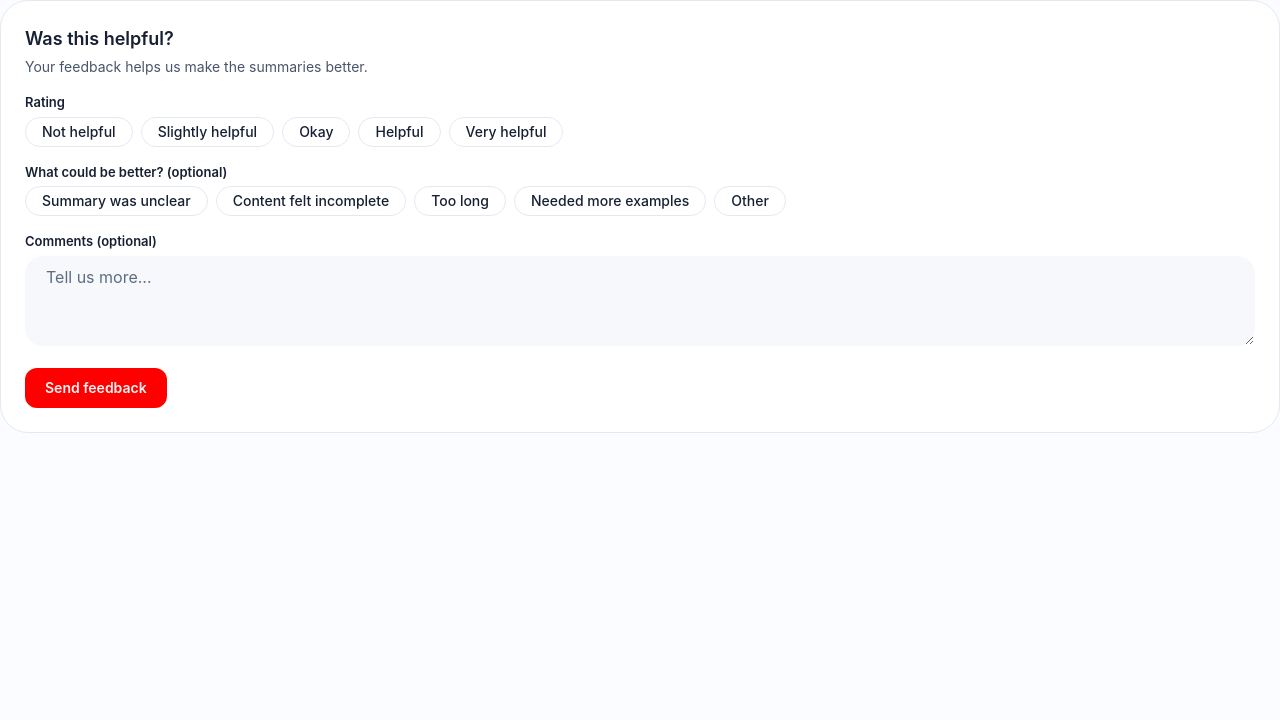
Test: FeedbackForm › submits with a selected rating and optional analysisId
Click the radio button labelled "Very helpful". click: (506, 132)
box: [449, 116, 564, 146]
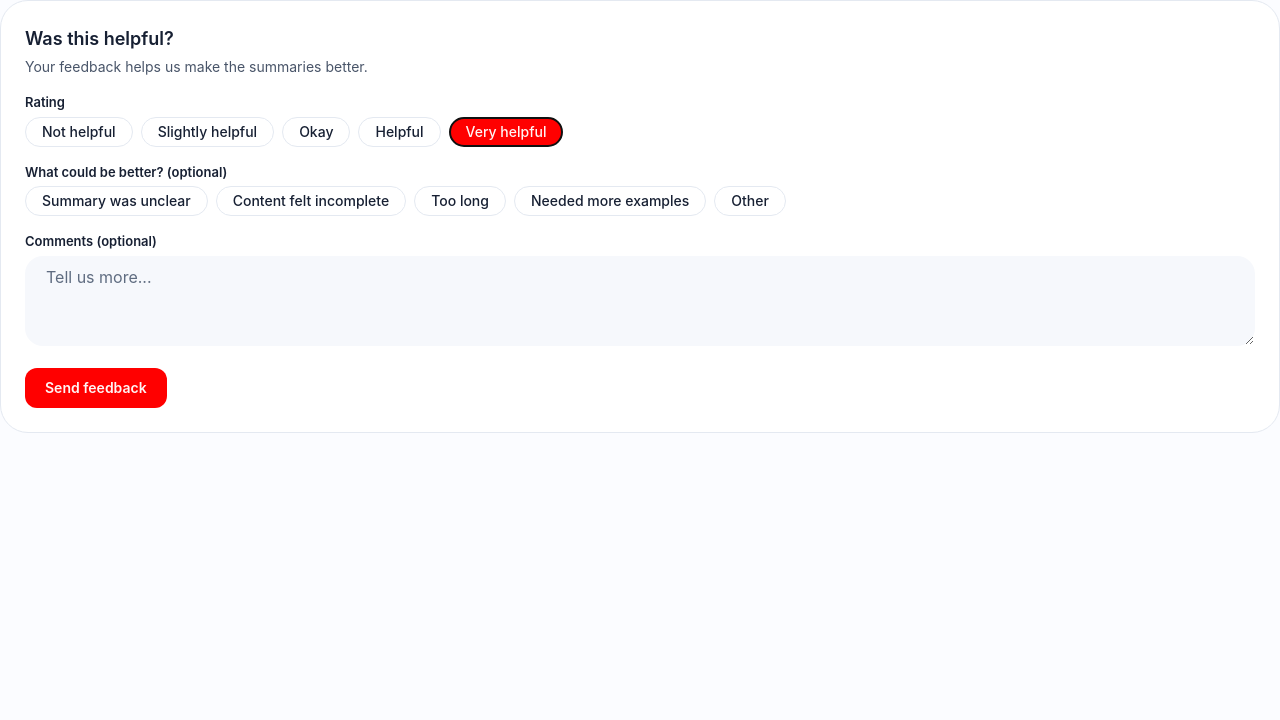
Click the button "Send feedback". click: (96, 388)
box: [25, 368, 167, 408]
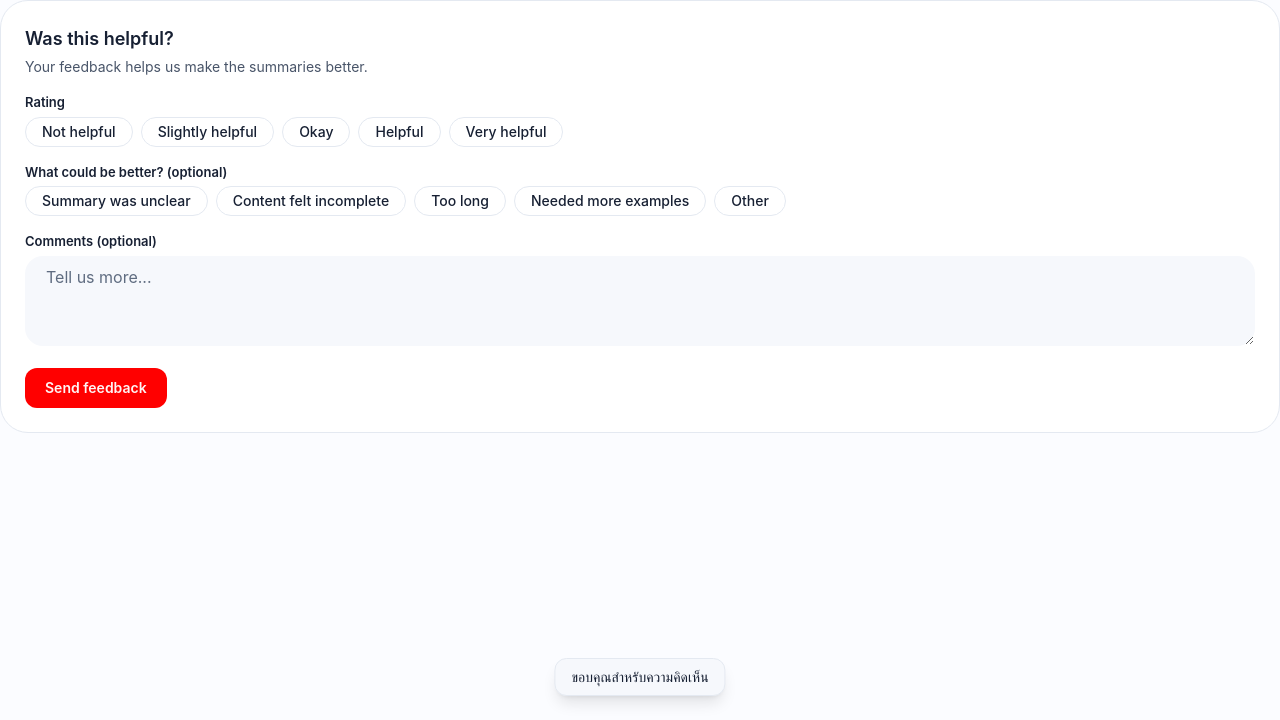
Now the text "ขอบคุณสำหรับความคิดเห็น" is shown, box [554, 658, 726, 696]
